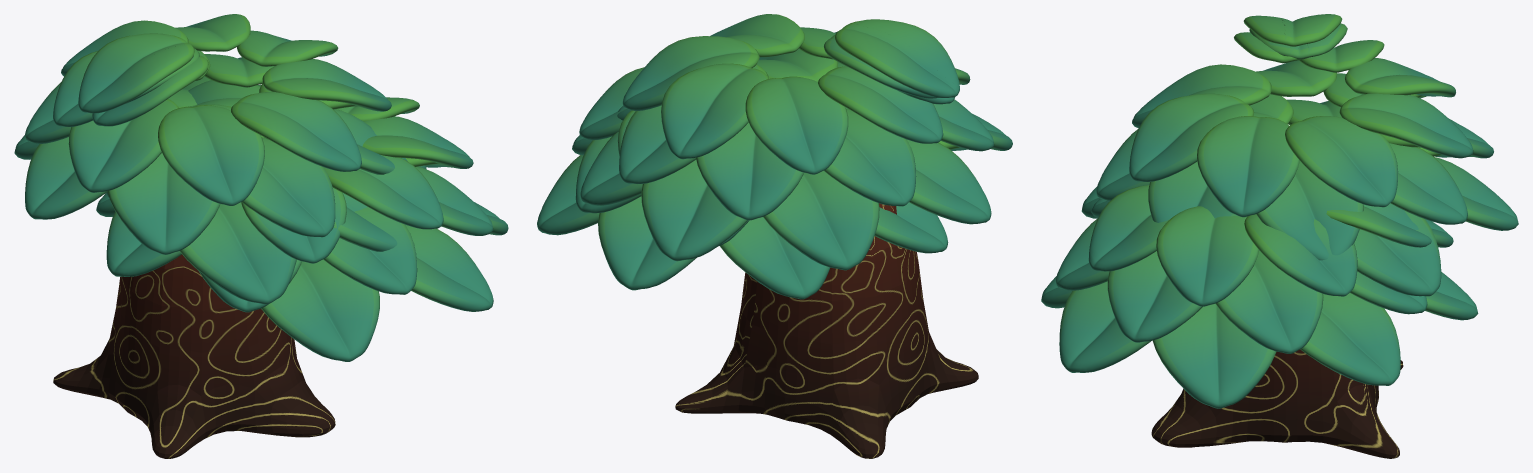
File: treee.fbx
3 views of the same model, side by side, from view 1: azimuth 30°, elevation 25°; view 2: azimuth 150°, elevation 25°; view 3: azimuth 270°, elevation 25° (orthographic). The views are drawn at different scales.
Visible parts, largest first — view 1: 叶子, 叶子.002, 柱体.002, 叶子.003, 叶子.004; view 2: 叶子, 柱体.002, 叶子.002, 叶子.003, 叶子.005; view 3: 叶子, 叶子.002, 柱体.002, 叶子.003, 叶子.005, 叶子.004.
Part boxes in pixels (x1,y1,x2,y2): 叶子: (14, 14, 426, 304); 叶子.002: (96, 80, 508, 361); 柱体.002: (53, 254, 335, 458); 叶子.003: (78, 33, 194, 113); 叶子.004: (92, 54, 208, 126); 叶子: (580, 14, 1012, 270); 柱体.002: (675, 203, 978, 458); 叶子.002: (537, 67, 948, 299); 叶子.003: (835, 19, 959, 97); 叶子.005: (824, 34, 938, 98); 叶子: (1081, 40, 1518, 296); 叶子.002: (1041, 185, 1478, 408); 柱体.002: (1151, 349, 1403, 458); 叶子.003: (1243, 14, 1342, 46); 叶子.005: (1249, 23, 1347, 59); 叶子.004: (1234, 32, 1308, 63).
Size of the model in its own units: 6.84 by 5.57 by 6.49.
Materials: 5 (5 with a texture image).
